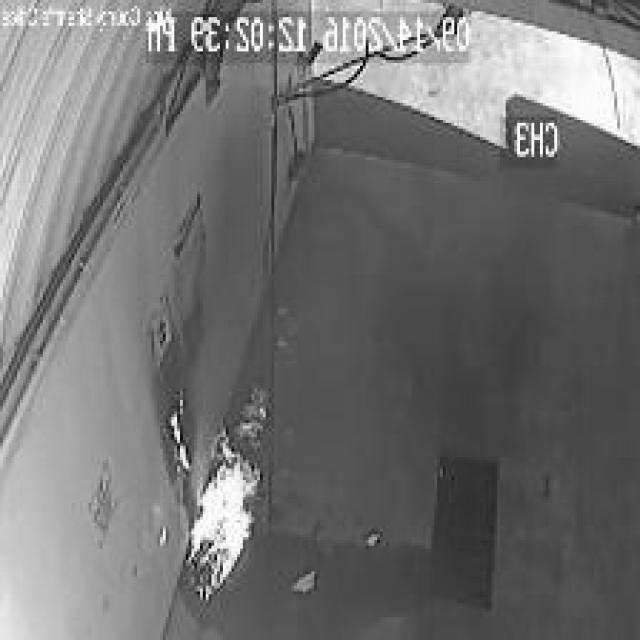smoke: (148, 377, 283, 612)
